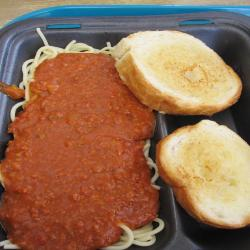bolonese_pasta: (18, 48, 157, 245)
bread: (110, 26, 244, 116), (154, 118, 250, 230)
